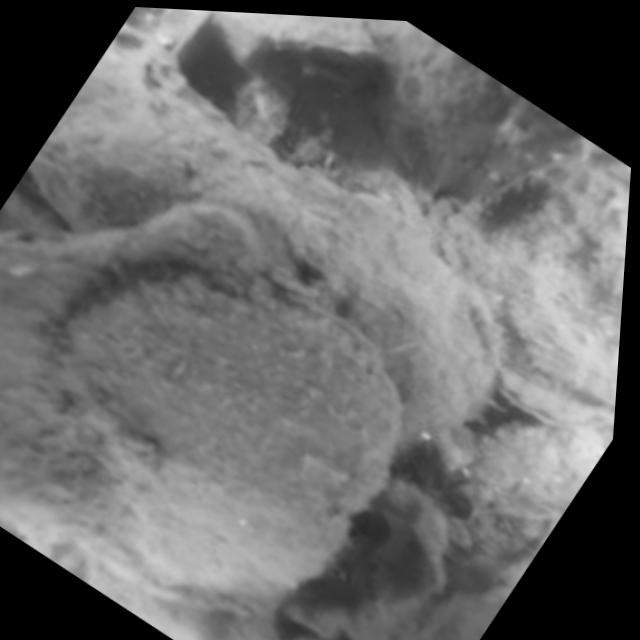Oyster-Indeterminate: (32, 48, 488, 431), (63, 275, 405, 610), (448, 161, 631, 429), (445, 423, 602, 565)
